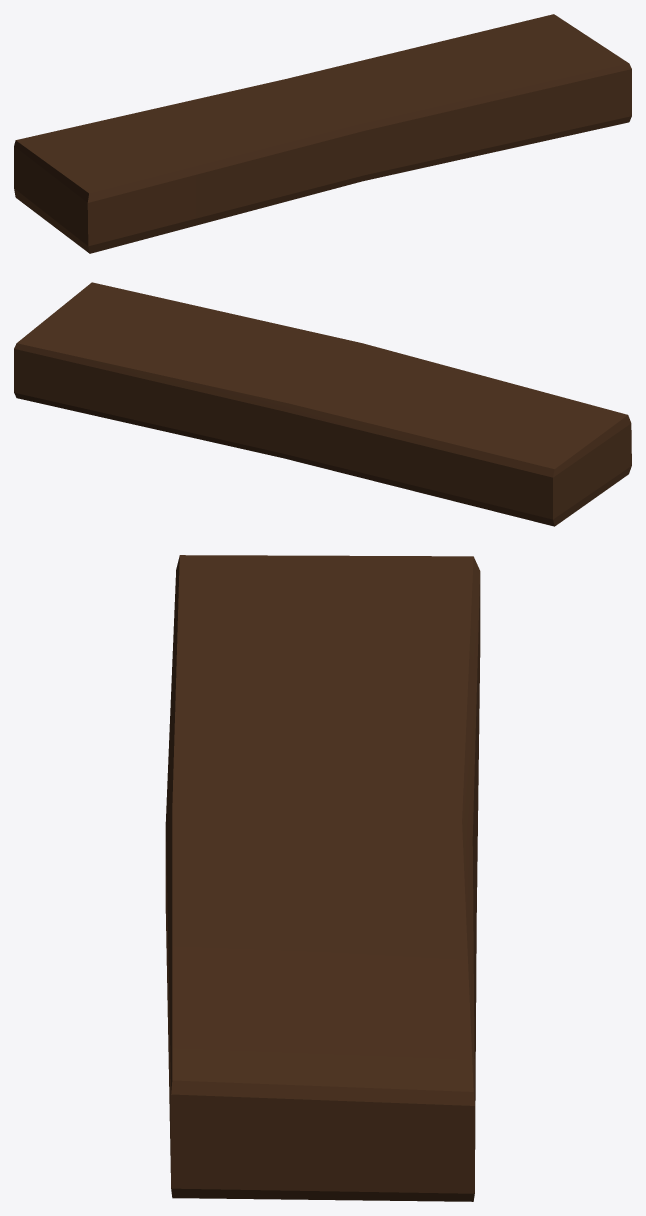
The model's file is geo_Plank.fbx.
The picture shows the model from 3 angles, top to bottom: view 1: azimuth 30°, elevation 25°; view 2: azimuth 150°, elevation 25°; view 3: azimuth 270°, elevation 25°; orthographic projection. The views are drawn at different scales.
Parts seen in each view (by area): view 1: geo_plank; view 2: geo_plank; view 3: geo_plank.
Part boxes in pixels (x1,y1,x2,y2): geo_plank: [14, 14, 631, 253]; geo_plank: [14, 282, 631, 526]; geo_plank: [165, 555, 480, 1201].
Size of the model in its own units: 4 by 0.4633 by 1.
